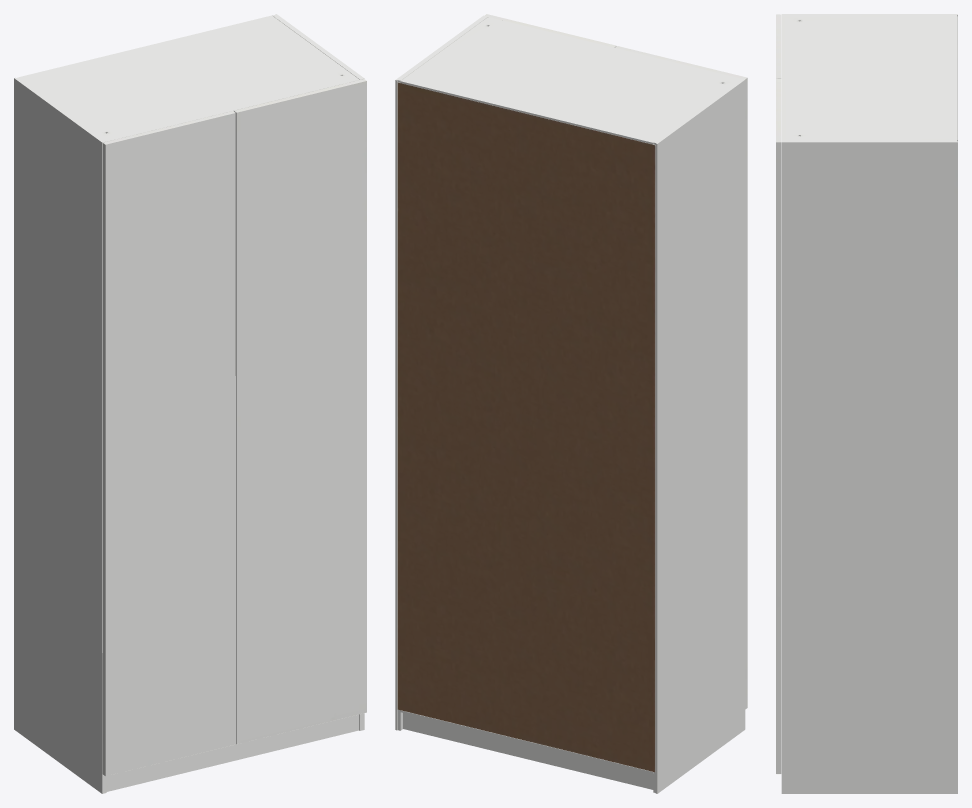
Rendered from pax_forsand_szafa_09500649.glb.
The picture shows the model from 3 angles, left to right: view 1: azimuth 30°, elevation 25°; view 2: azimuth 150°, elevation 25°; view 3: azimuth 270°, elevation 25°; orthographic projection.
Visible parts, largest first — view 1: pax_forsand_szafa_09500649; view 2: pax_forsand_szafa_09500649; view 3: pax_forsand_szafa_09500649.
Part boxes in pixels (<box>): pax_forsand_szafa_09500649: <box>14,14,366,793</box>; pax_forsand_szafa_09500649: <box>395,14,747,793</box>; pax_forsand_szafa_09500649: <box>776,14,957,793</box>.
Bounding box in the file's own units: 0.9975 × 2.36 × 0.598.
1 material, 1 textured.
